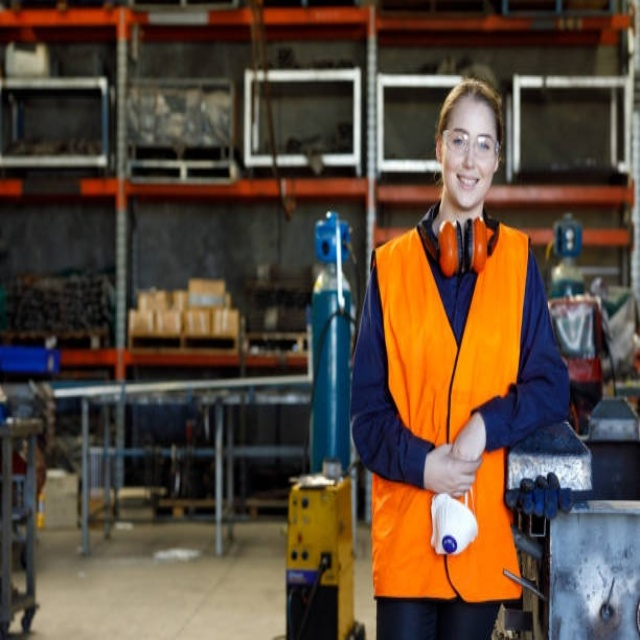Gafas: (443, 130, 500, 160)
Sin_guantes: (426, 436, 483, 498)
Sin_mascara: (450, 166, 484, 202)
